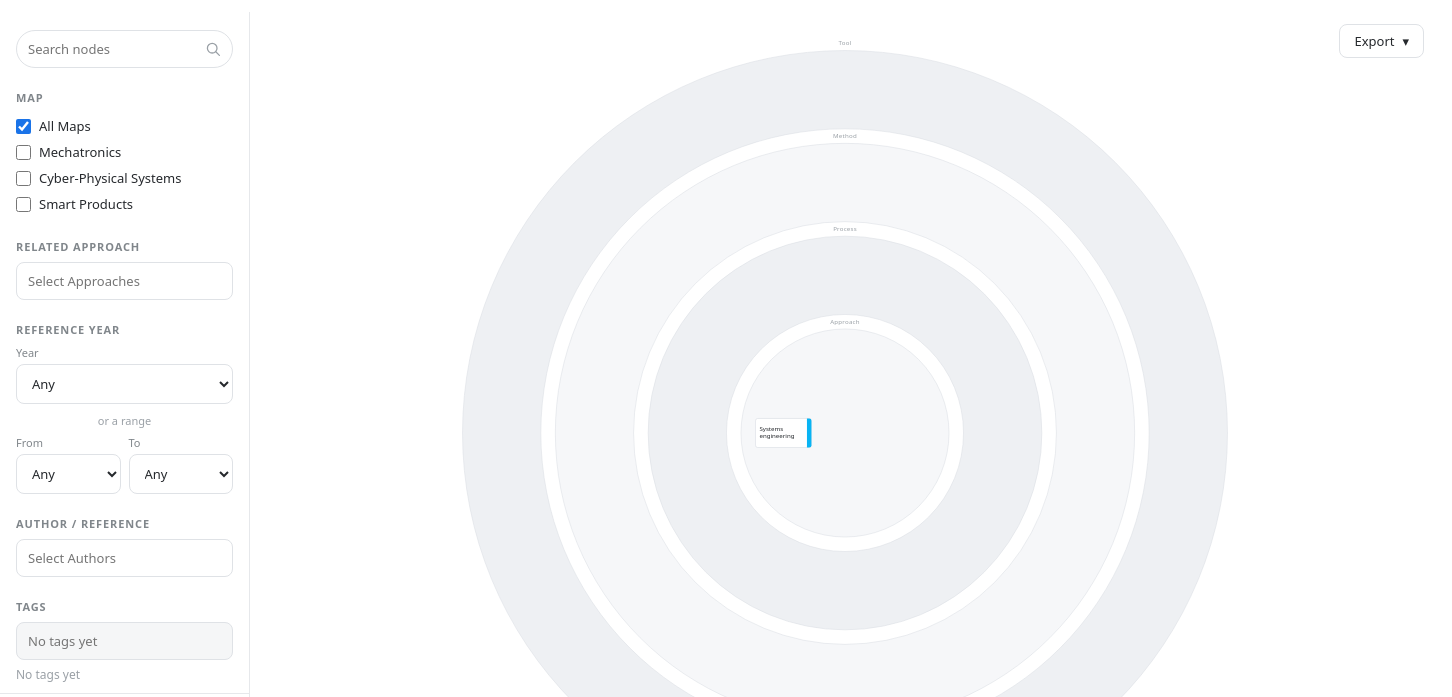
Test: applying deferred filters › keeps the option list open long enough for an unhurried click
Focus the dropdown labelled "Select Authors": (124, 558) [16, 539, 233, 577]
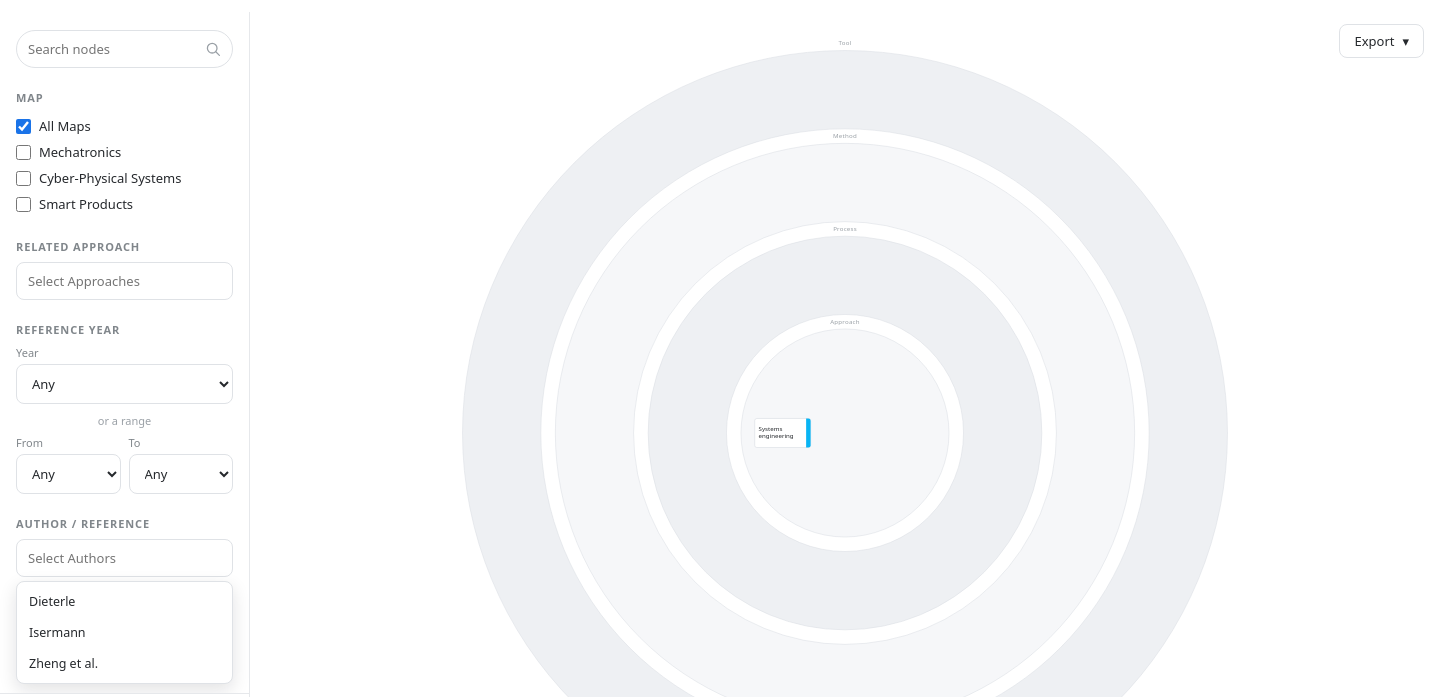
Press the mouse on the button "Isermann": (124, 632) [21, 617, 228, 648]
Click the button "Isermann": (124, 632) [21, 617, 228, 648]
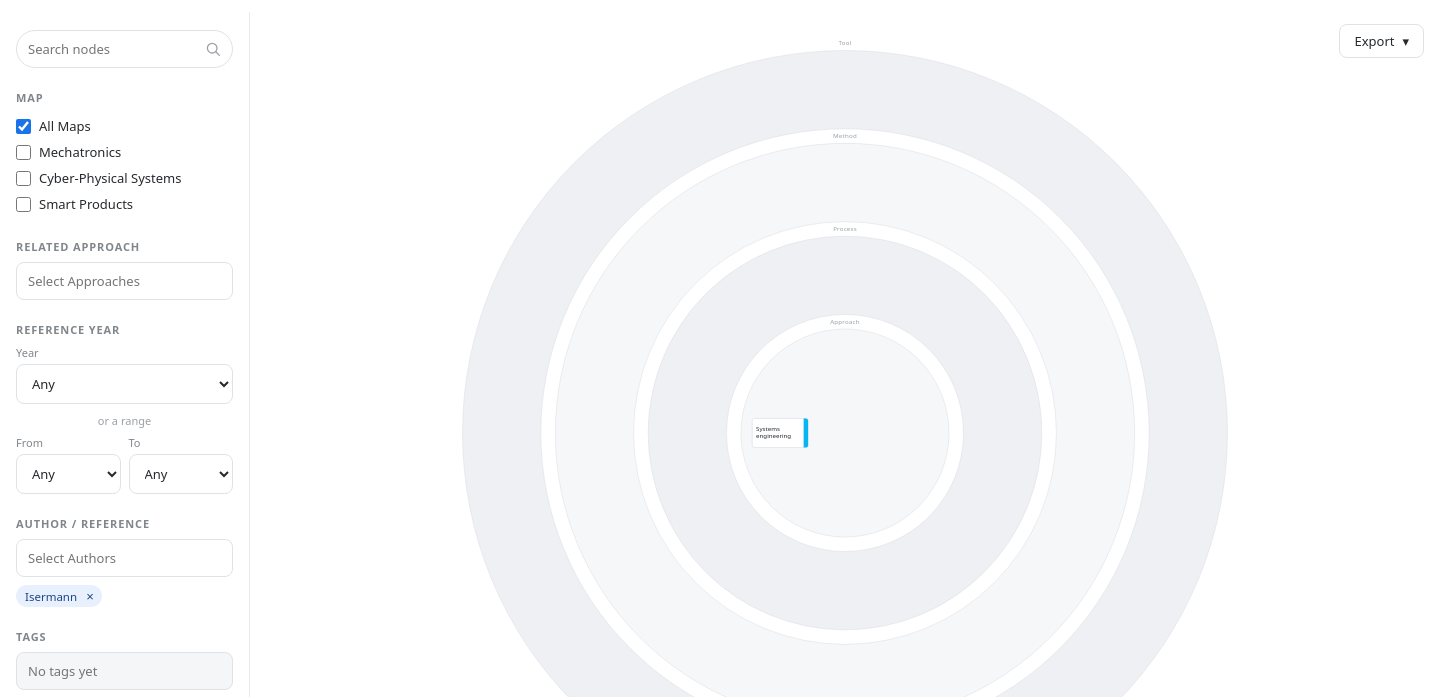
Check: the button named "Remove Isermann" is shown, box [82, 588, 98, 604]
